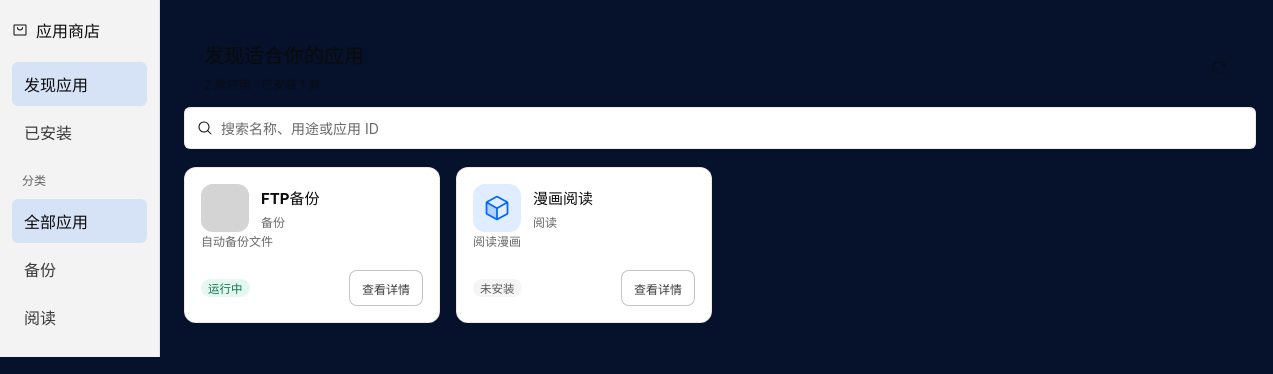
Test case: official store acceptance › shows Chinese names and descriptions once and filters by category and installed state
Expected: the text "FTP备份" is shown once, [261,186,320,208]
Expected: the text "自动备份文件" is shown, [201,234,273,249]
Step 1. Click the button "已安装" → point(80, 132), box [12,110,147,154]
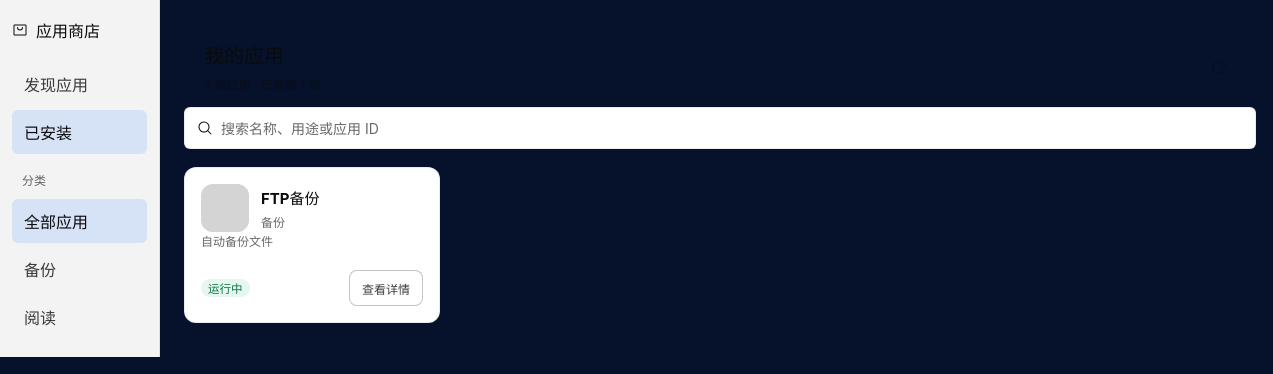
Now the button "漫画阅读" is gone
Step 2. Click the button "发现应用" → point(80, 84), box [12,62,147,106]
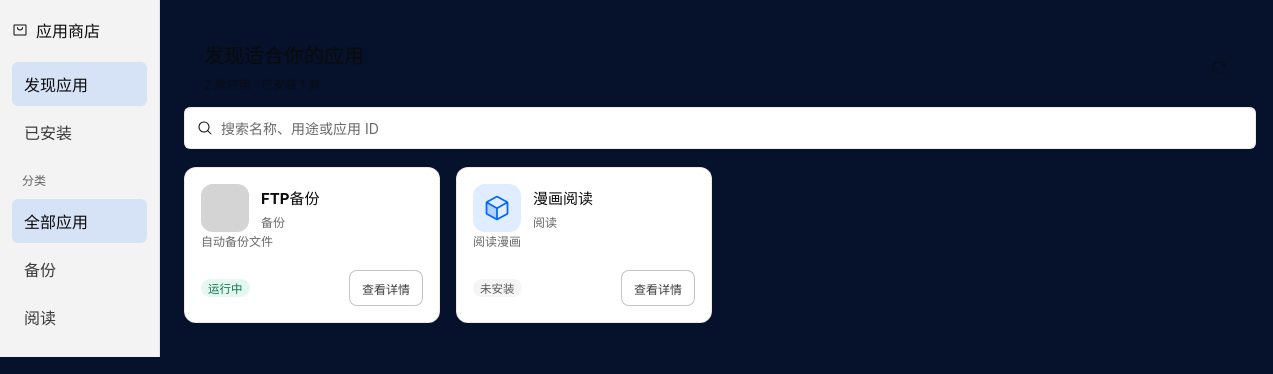
Step 3. Click the button "阅读" → point(80, 317), box [12,295,147,339]
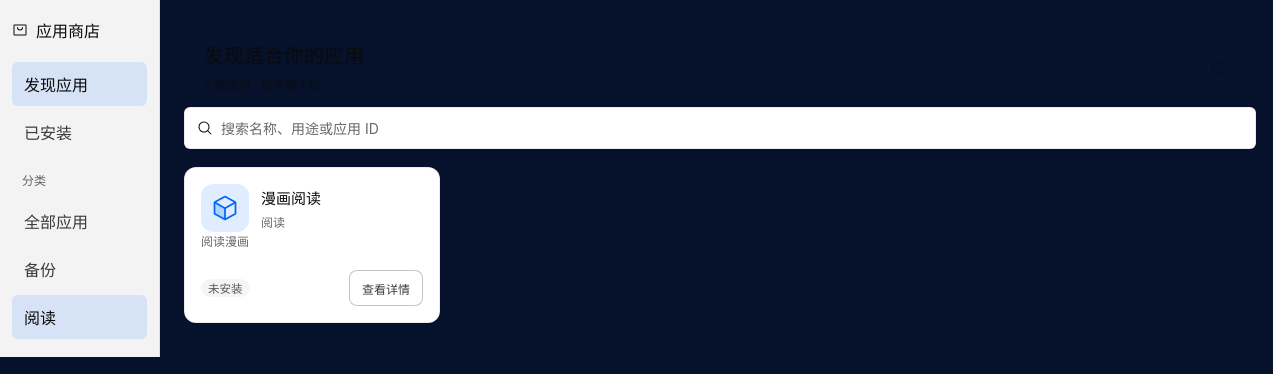
Now the text "漫画阅读" is shown, box [261,186,321,208]
Now the button "FTP备份" is gone
